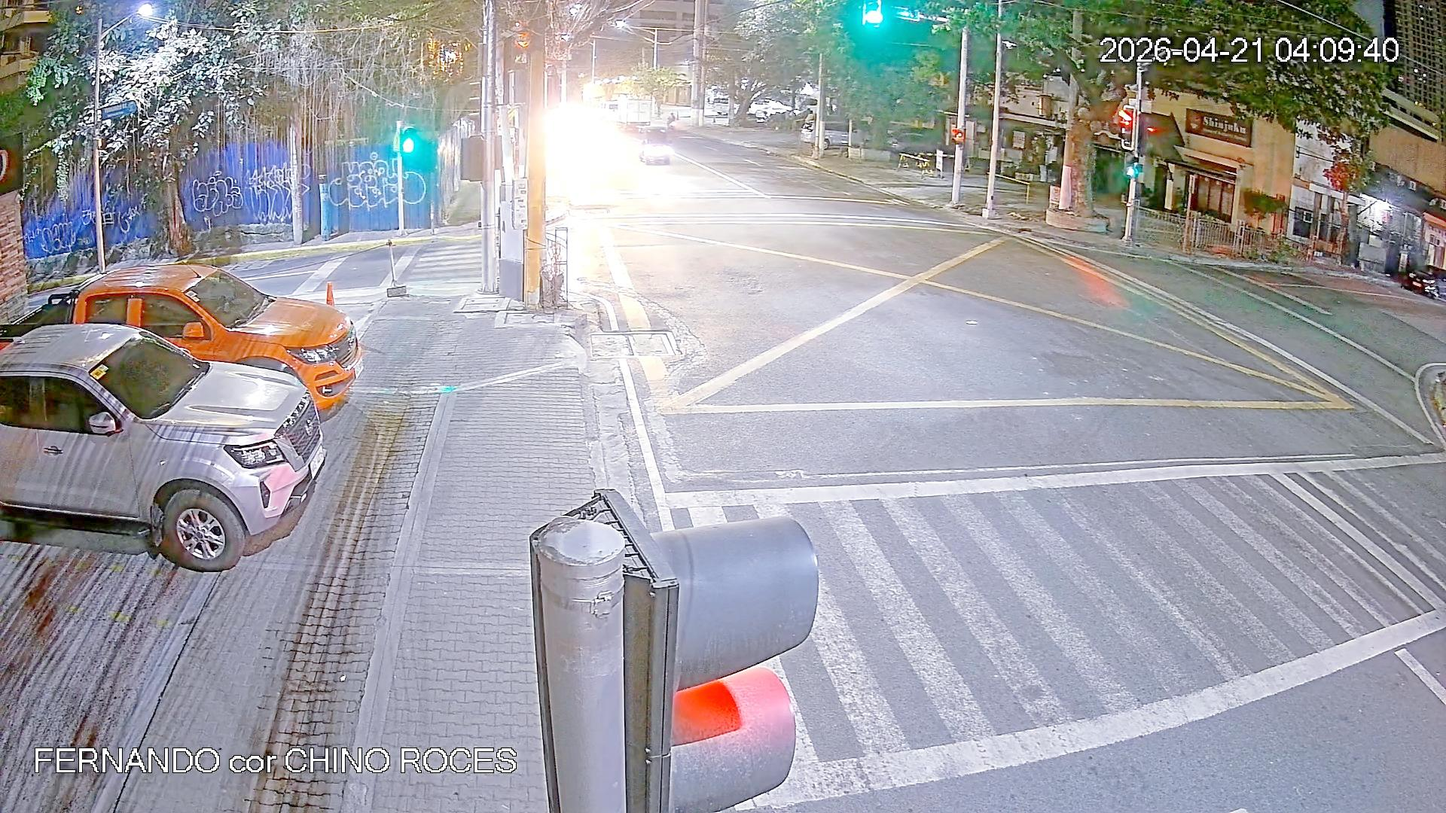Car: (3, 321, 339, 600), (24, 267, 417, 406)
